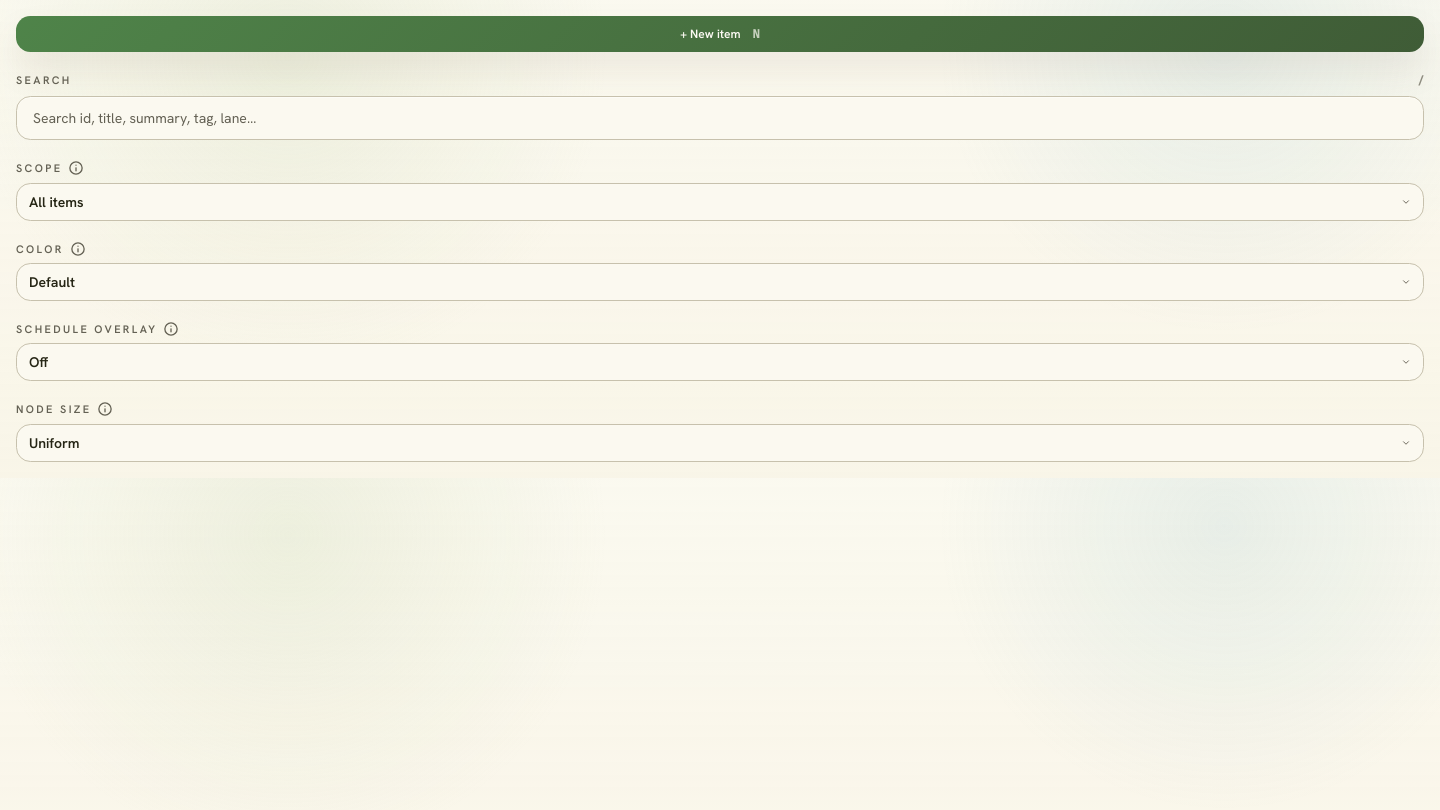
Test: PlanToolbar — display selects (scope / color / overlay / size) › enables scope options once an item is selected and sets scope on pick
Click the dropdown named "Scope".
click(56, 202)  # box [16,183,1424,221]
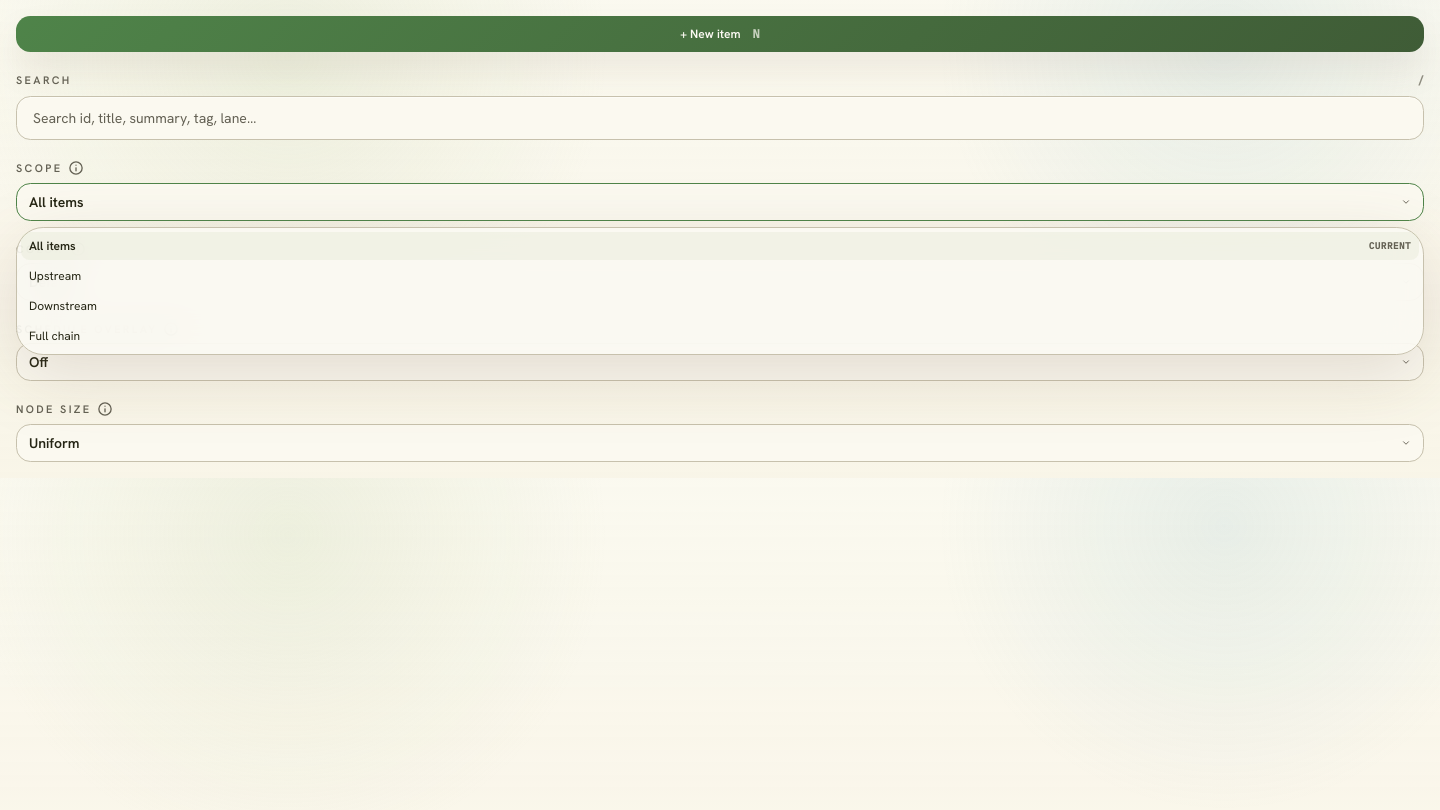
Click the option "Upstream".
click(55, 276)  # box [29,268,81,284]
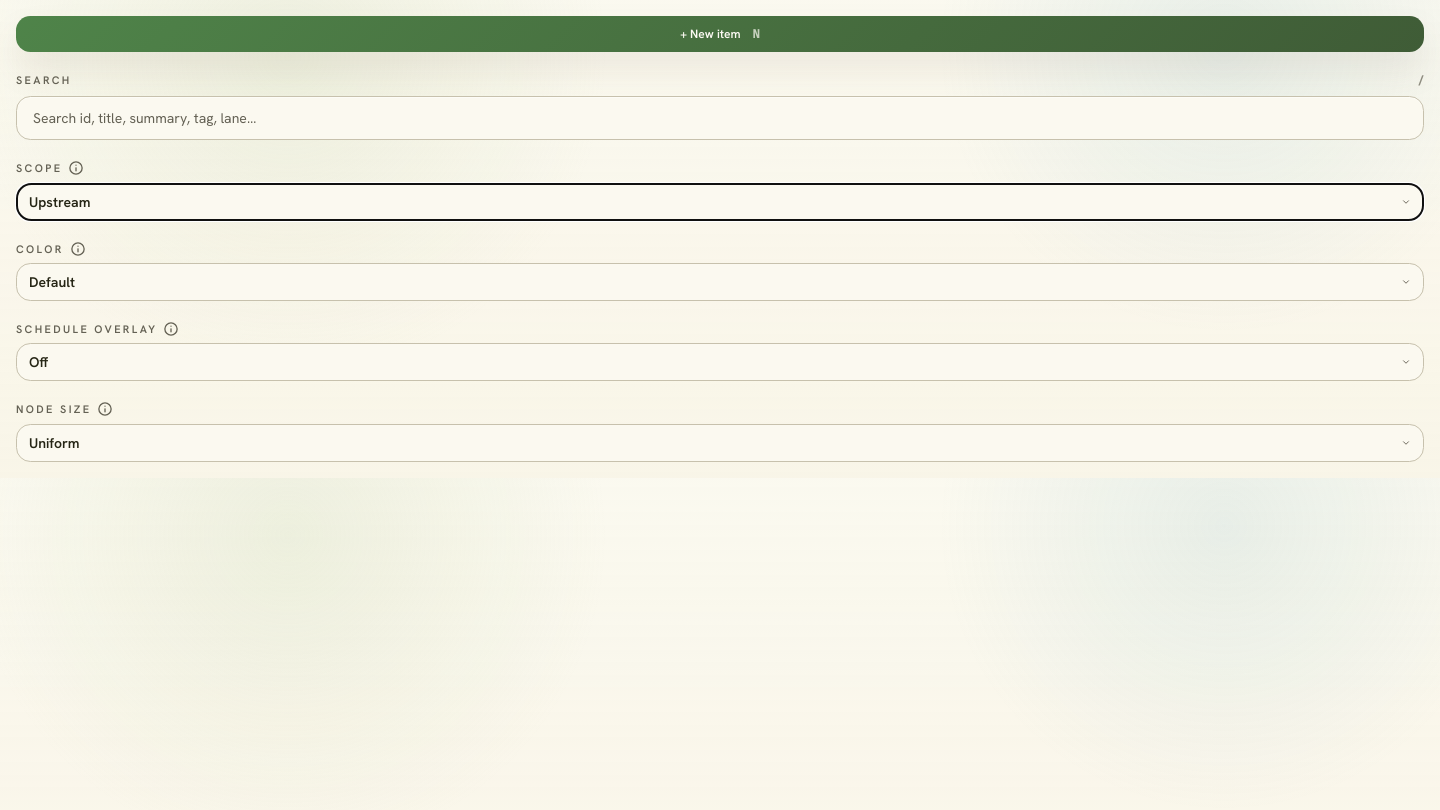
Expected: the dropdown named "Scope" reads "Upstream", [16,183,1424,221]
